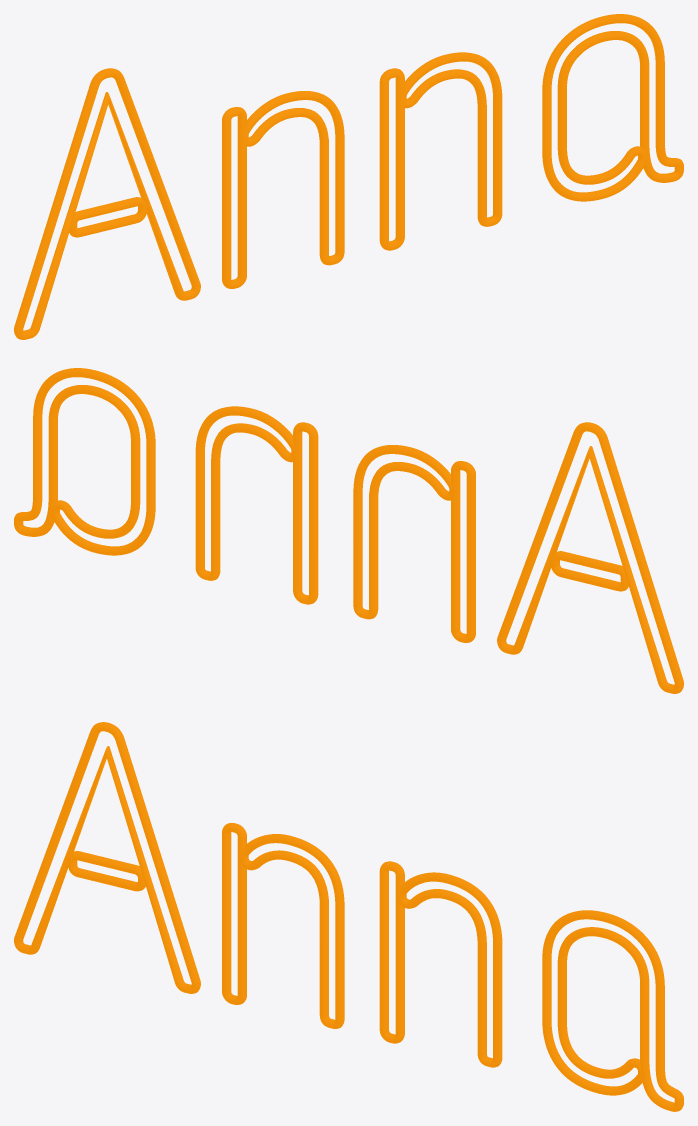
The picture shows the model from 3 angles, top to bottom: view 1: azimuth 30°, elevation 25°; view 2: azimuth 150°, elevation 25°; view 3: azimuth 330°, elevation 25°; orthographic projection.
Visible parts, largest first — view 1: Text; view 2: Text; view 3: Text.
Part boxes in pixels (x1=…): Text: x1=14, y1=14, x2=683, y2=339; Text: x1=14, y1=368, x2=683, y2=693; Text: x1=14, y1=722, x2=683, y2=1111.
Bounding box in the file's own units: 1.66 × 0.5941 × 0.02.
